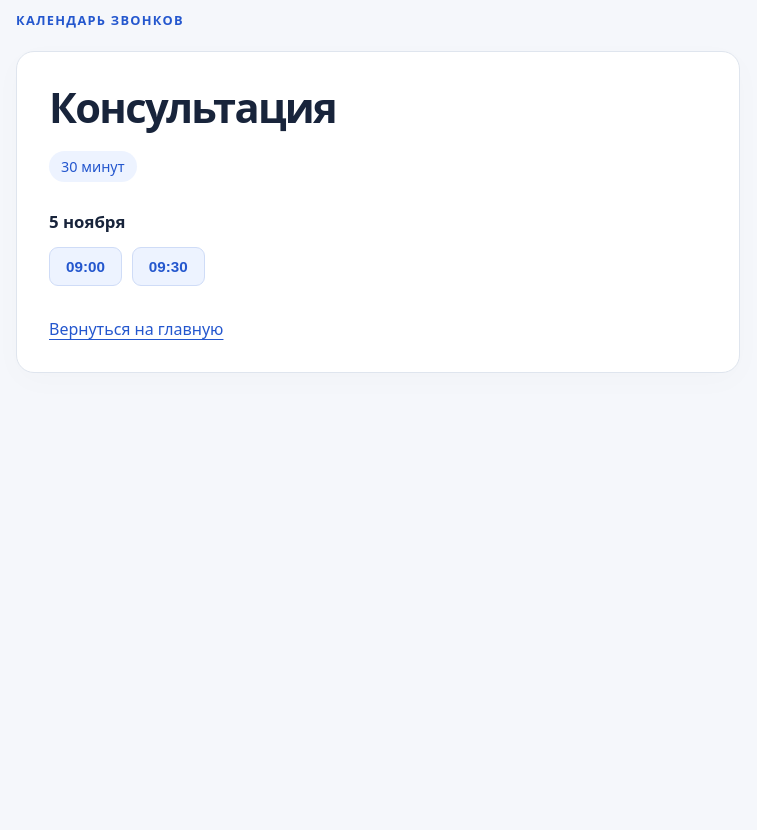
Путь гостя › показывает сообщение при 400 и позволяет исправить тему и повторить
The width and height of the screenshot is (757, 830).
Click the button "09:00" at (85, 267), box [49,248,122,286]
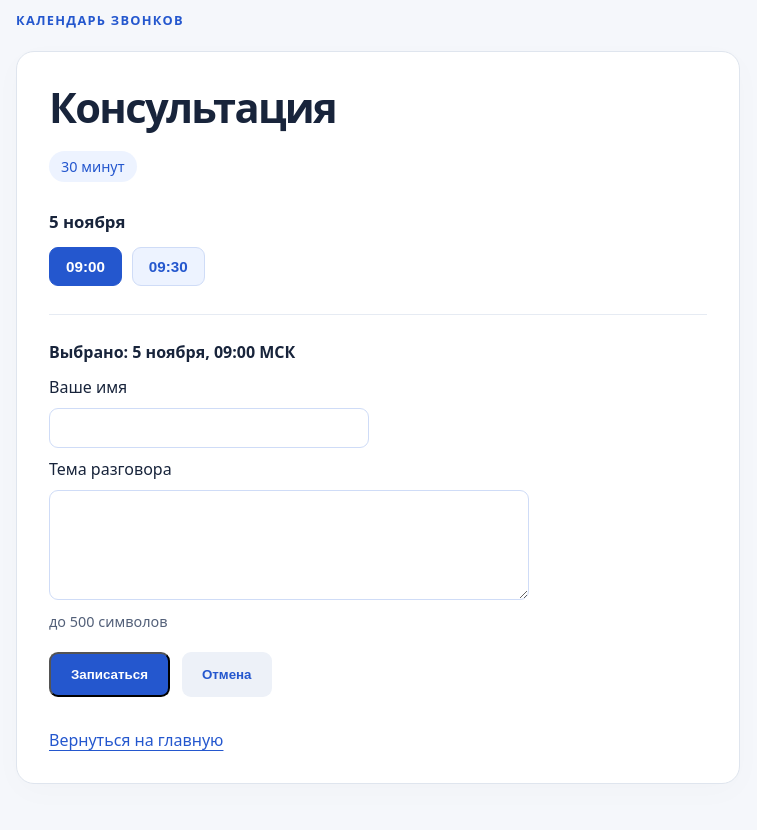
Type "Аня" into the field labelled "Ваше имя" at (209, 428), box [49,408,369,448]
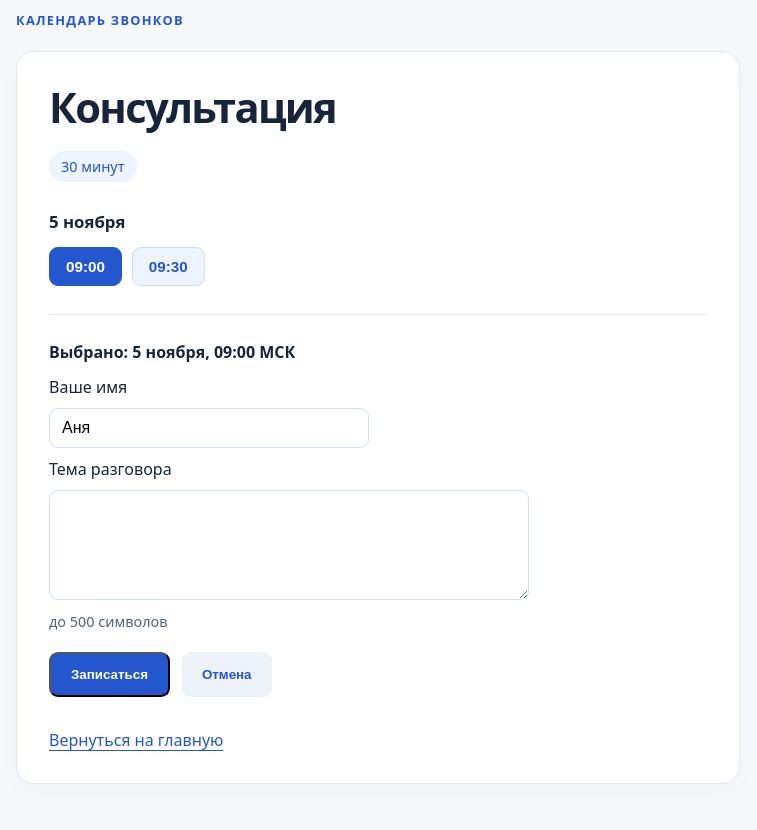
Type "длинная" into the text box labelled "Тема разговора" at (289, 545), box [49,490,529,600]
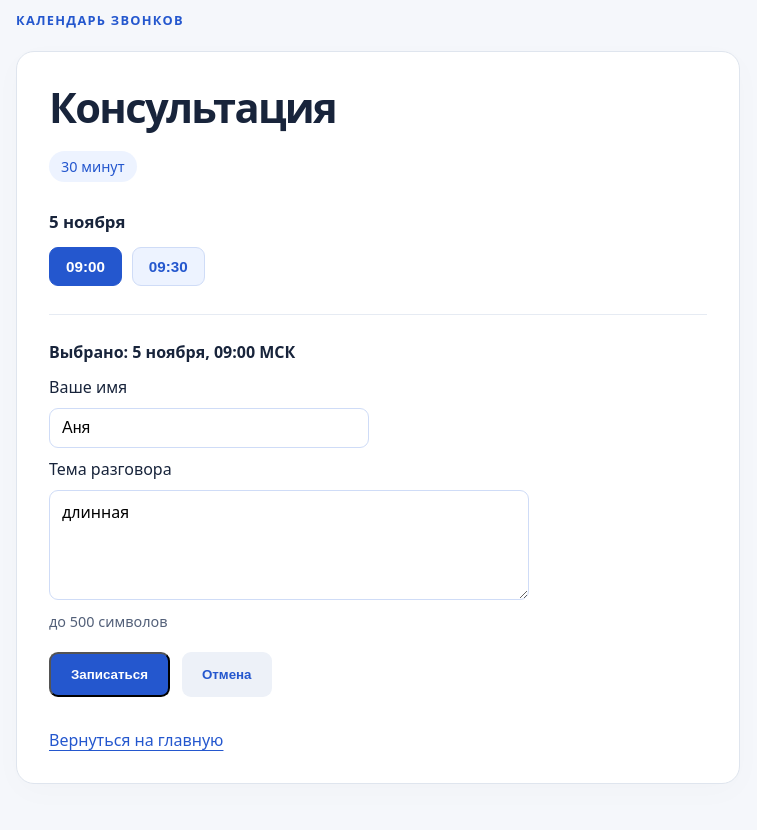
Click the button "Записаться" at (109, 674), box [49,652,170,697]
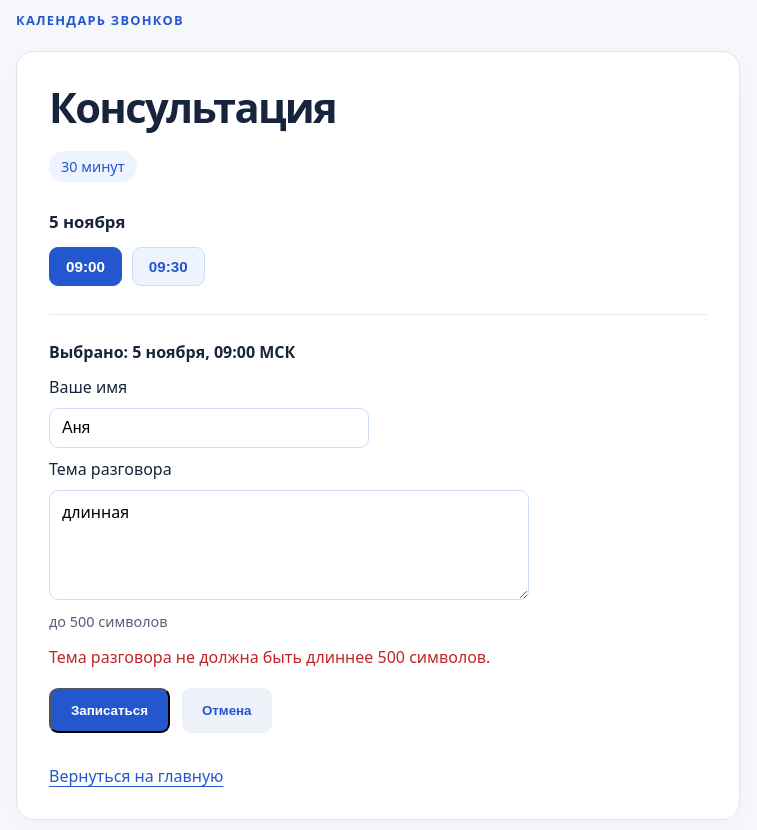
Expected: the message reads "Тема разговора не должна быть длиннее 500 символов.", [49,646,490,668]
Replace the text in the text box labelled "Тема разговора" with "коротко" at (289, 545), box [49,490,529,600]
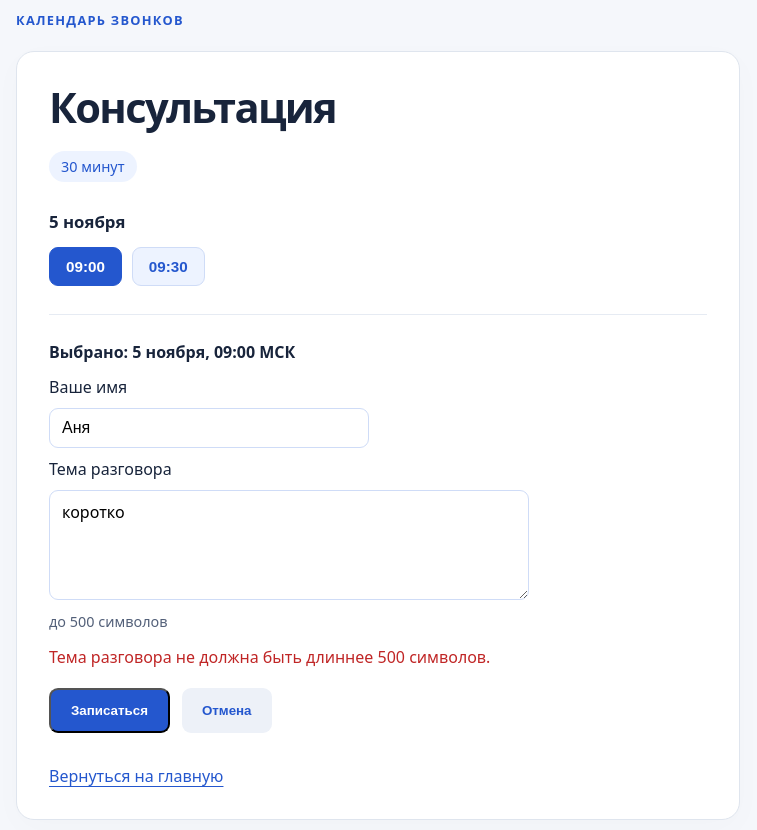
Click the button "Записаться" at (109, 710), box [49,688,170,733]
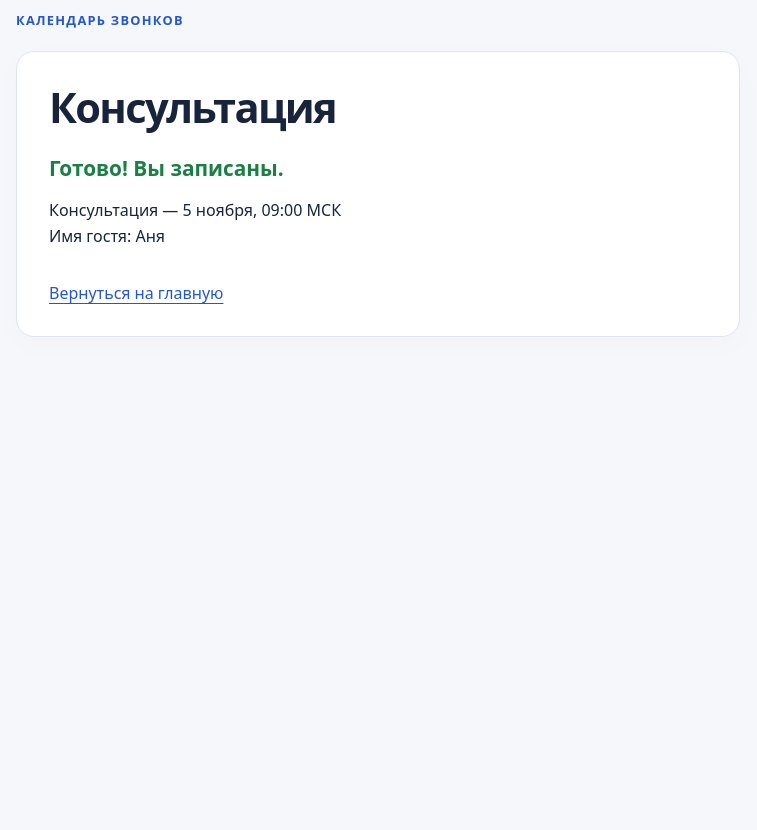
Expected: the text "Готово! Вы записаны." is shown, [49,154,284,182]
